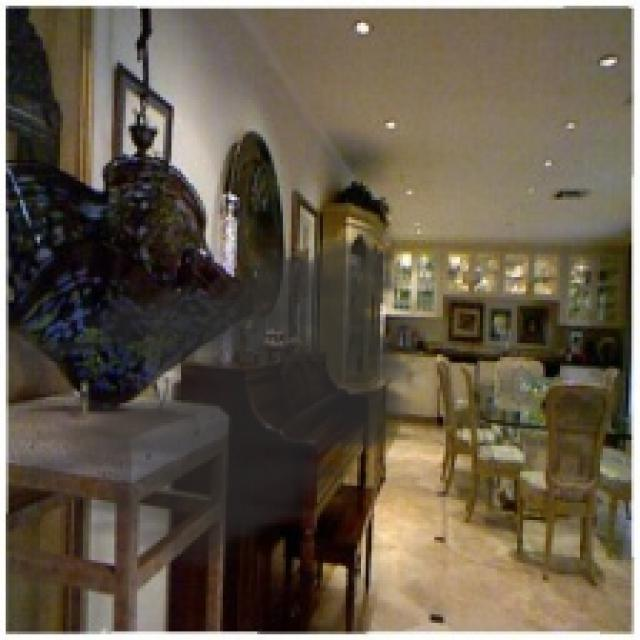Smoke: (19, 220, 434, 580)
